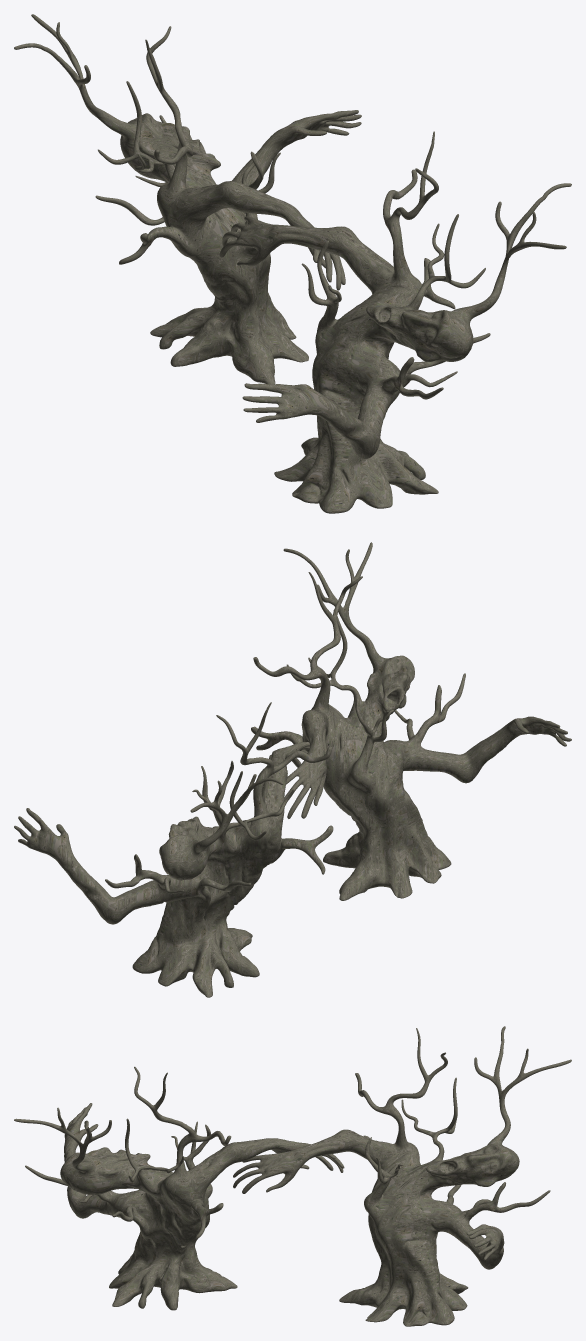
Rendered from Arbol_TP.glb.
The picture shows the model from 3 angles, top to bottom: view 1: azimuth 30°, elevation 25°; view 2: azimuth 150°, elevation 25°; view 3: azimuth 270°, elevation 25°; orthographic projection. The views are drawn at different scales.
Parts seen in each view (by area): view 1: prim1, prim0; view 2: prim1, prim0; view 3: prim0, prim1.
Part boxes in pixels (x1,y1,x2,y2): prim1: [219, 131, 571, 513]; prim0: [14, 14, 361, 384]; prim1: [251, 542, 571, 900]; prim0: [14, 702, 333, 997]; prim0: [233, 1026, 571, 1326]; prim1: [14, 1066, 344, 1310].
Bounding box in the file's own units: 13.64 × 11.24 × 22.97.
1 material, 1 textured.
